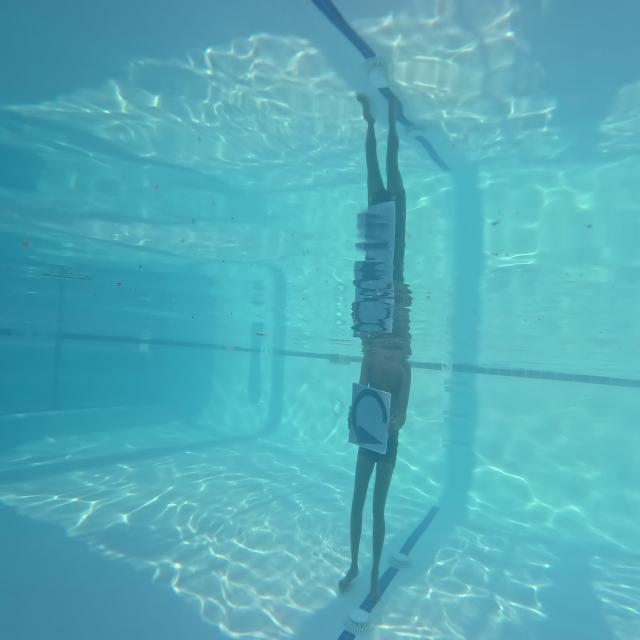blue_side: (346, 373, 393, 455)
